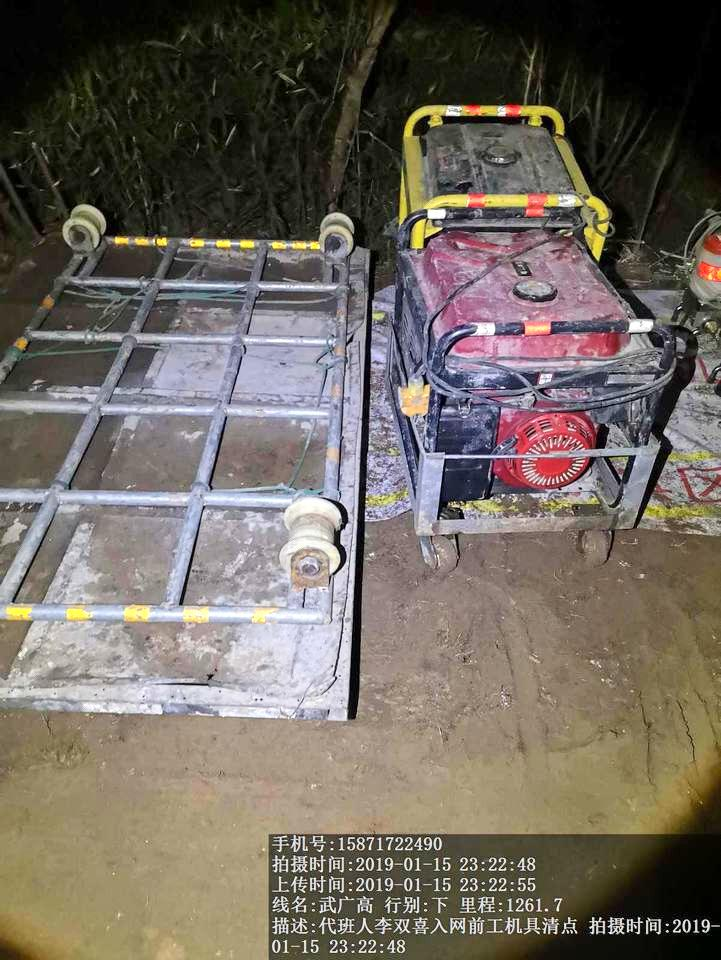DJ: (376, 225, 667, 571), (381, 94, 620, 220)
